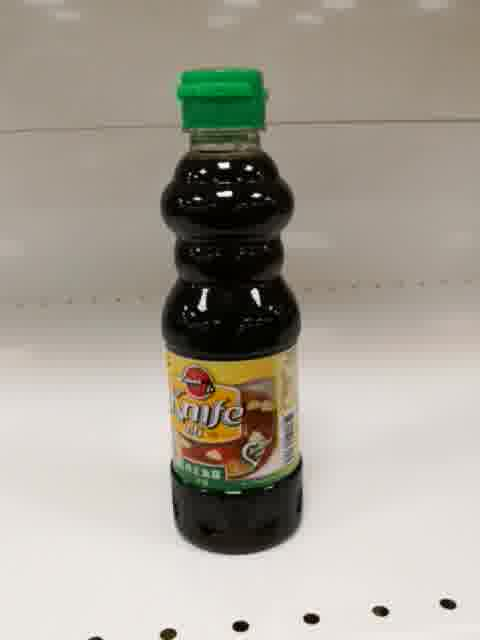cookingoil: (159, 66, 304, 556)
